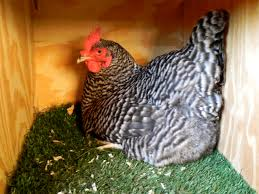chicken: (58, 3, 233, 171)
